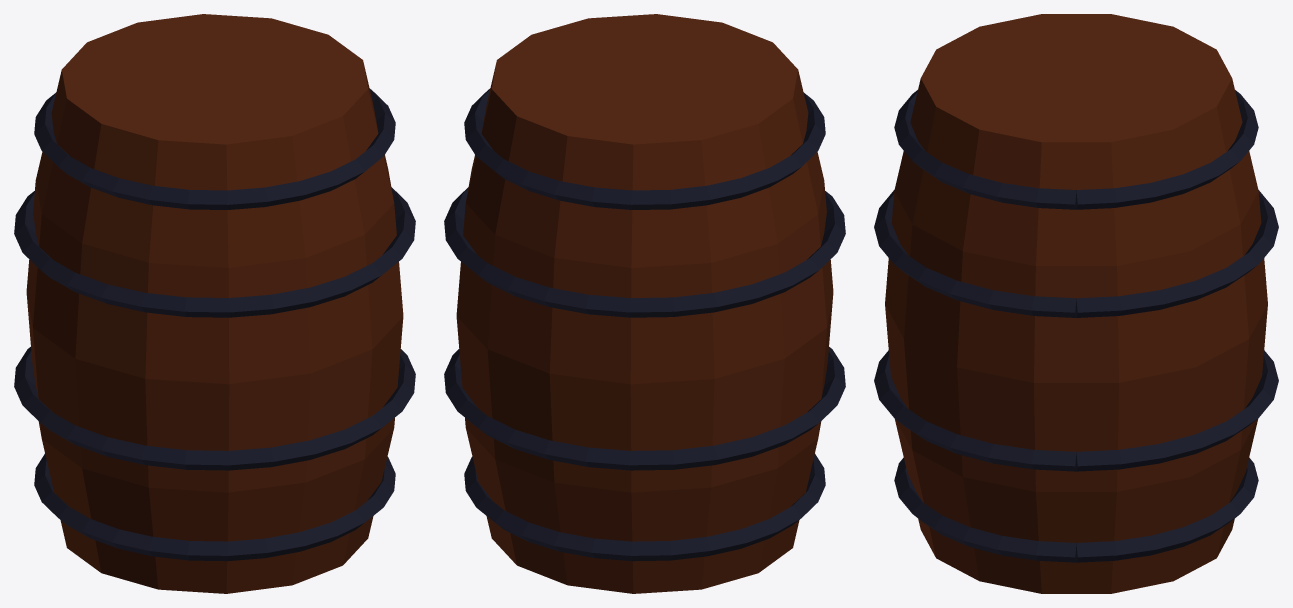
File: myw_barrel.obj
3 renders of one model, left to right at view 1: azimuth 30°, elevation 25°; view 2: azimuth 150°, elevation 25°; view 3: azimuth 270°, elevation 25°, orthographic.
Visible parts, largest first — view 1: Barrel; view 2: Barrel; view 3: Barrel.
Part boxes in pixels (x1=…): Barrel: x1=14, y1=14, x2=415, y2=593; Barrel: x1=444, y1=14, x2=845, y2=593; Barrel: x1=874, y1=14, x2=1278, y2=593.
Bounding box in the file's own units: 2.6 × 3.2 × 2.6.
